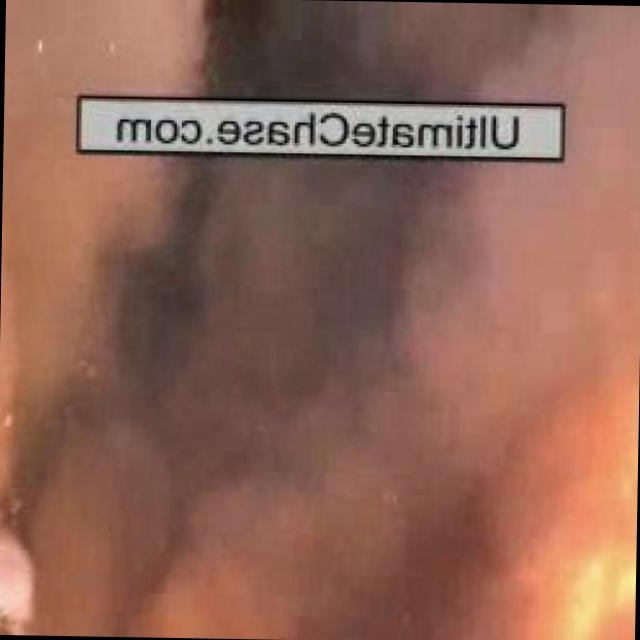Fire: (528, 397, 639, 640), (1, 390, 37, 543)
